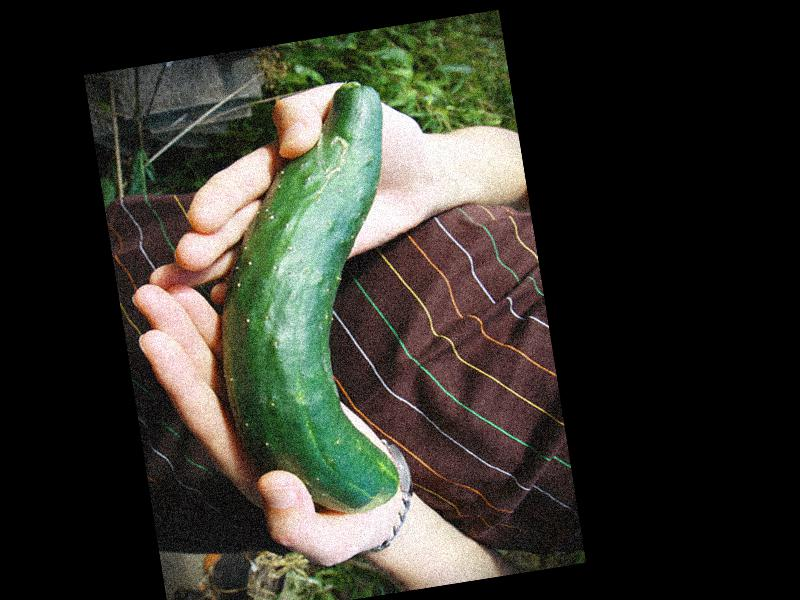Cucumber: (182, 80, 444, 530)
